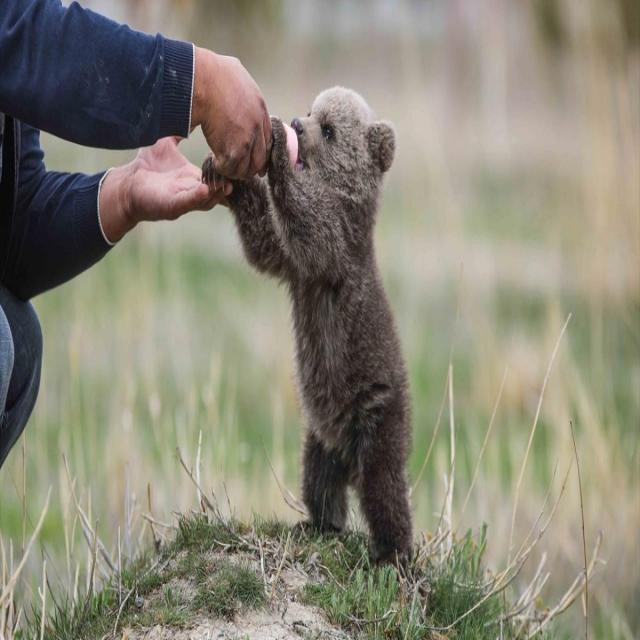Bear: (221, 86, 414, 565)
